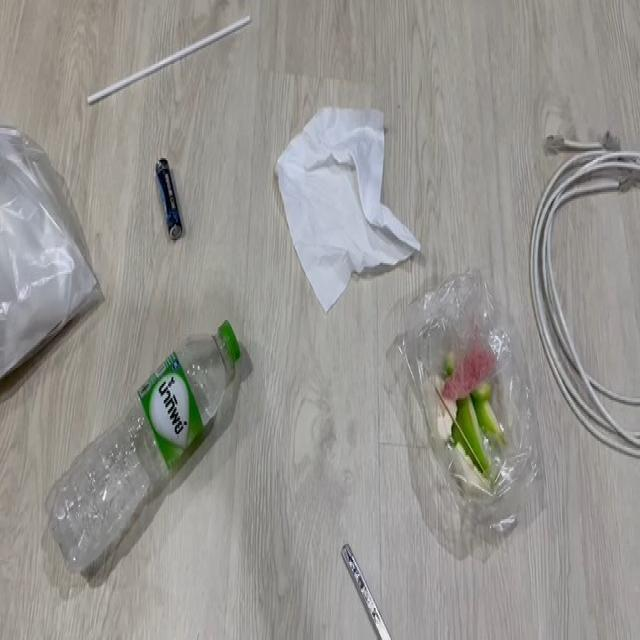Anorganik: (56, 346, 255, 546), (284, 88, 422, 312), (0, 146, 100, 377), (94, 30, 256, 96), (332, 546, 394, 640)
B3: (392, 293, 538, 532), (526, 139, 640, 441), (158, 144, 192, 249)
